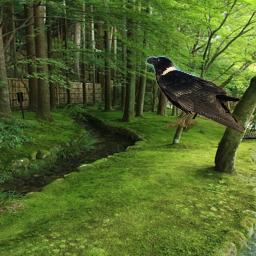Crow: (145, 54, 245, 133)
